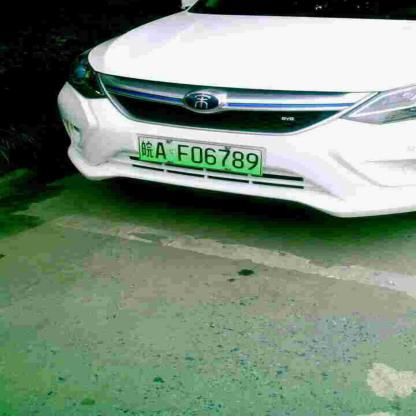lp: (137, 136, 261, 174)
